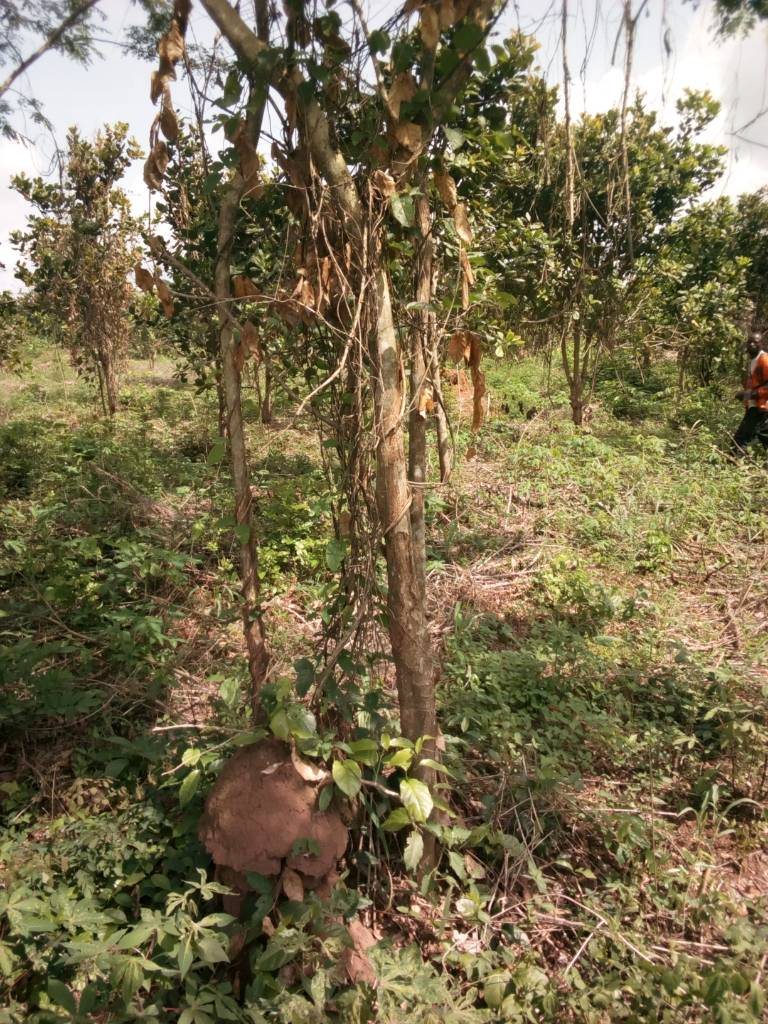Termites: (200, 761, 343, 878)
